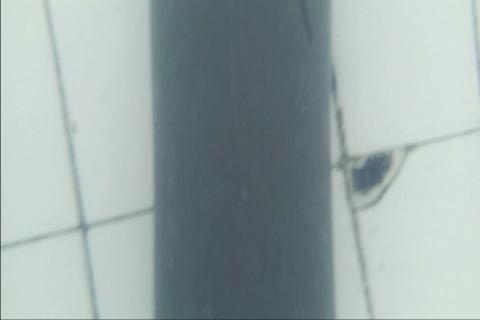keretakan: (296, 0, 315, 49)
